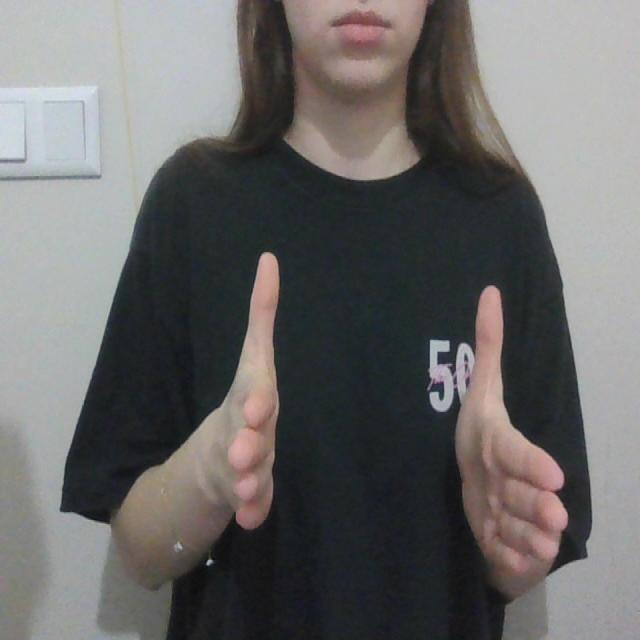Nasil: (216, 240, 572, 601)
